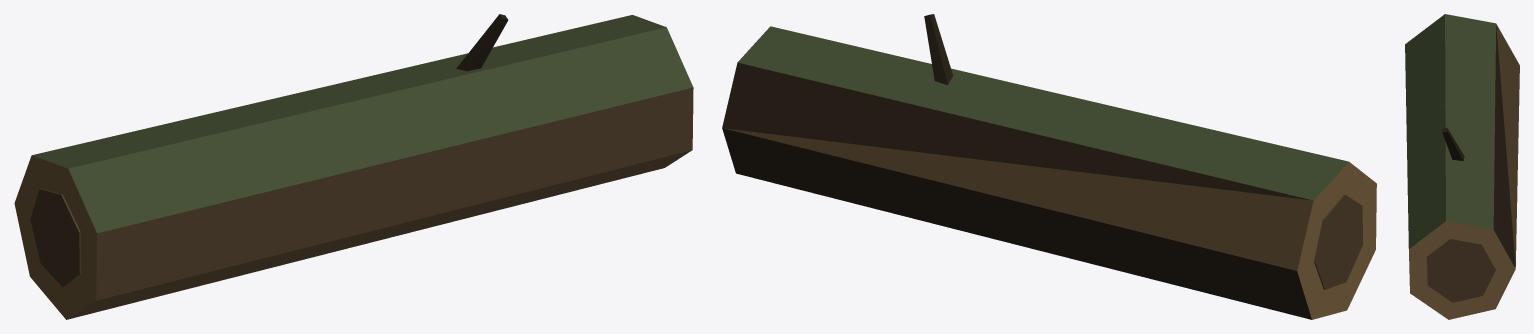
Rendered from hushwood_log.glb.
3 views of the same model, side by side, from view 1: azimuth 30°, elevation 25°; view 2: azimuth 150°, elevation 25°; view 3: azimuth 270°, elevation 25° (orthographic). The views are drawn at different scales.
Visible parts, largest first — view 1: hushwood_log; view 2: hushwood_log; view 3: hushwood_log.
Part boxes in pixels (left/top/right/bottom): hushwood_log: left=14, top=14, right=693, bottom=319; hushwood_log: left=722, top=14, right=1376, bottom=319; hushwood_log: left=1405, top=14, right=1519, bottom=319.
Size of the model in its own units: 3.22 by 1.02 by 0.7644.
